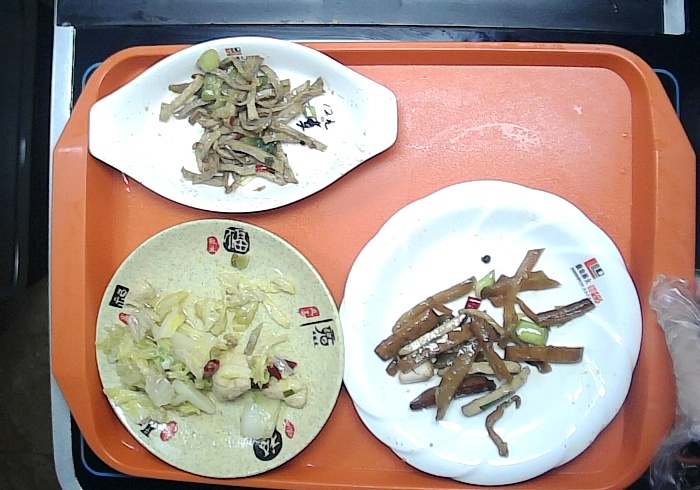NLDX-Bai_Zhe_Yuan_Pan: (336, 179, 643, 487)
NLDX-Fu_Zi_Yuan_Pan: (94, 218, 344, 479)
NLDX-Yu_Pan: (88, 37, 398, 214)
